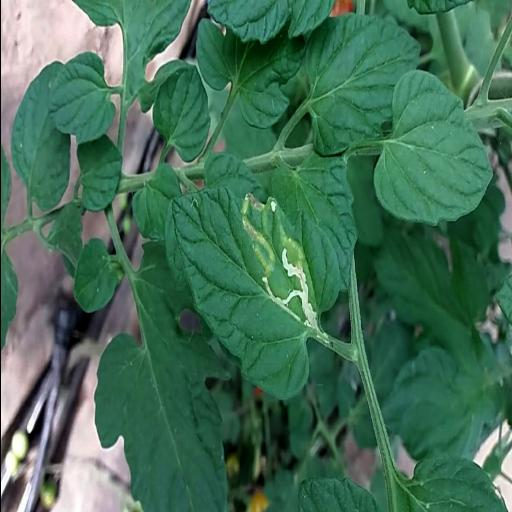Healthy: (94, 243, 226, 512), (372, 68, 490, 224), (306, 14, 424, 160), (46, 52, 116, 140), (154, 66, 210, 160)
Leaf Miner: (172, 180, 321, 404)
